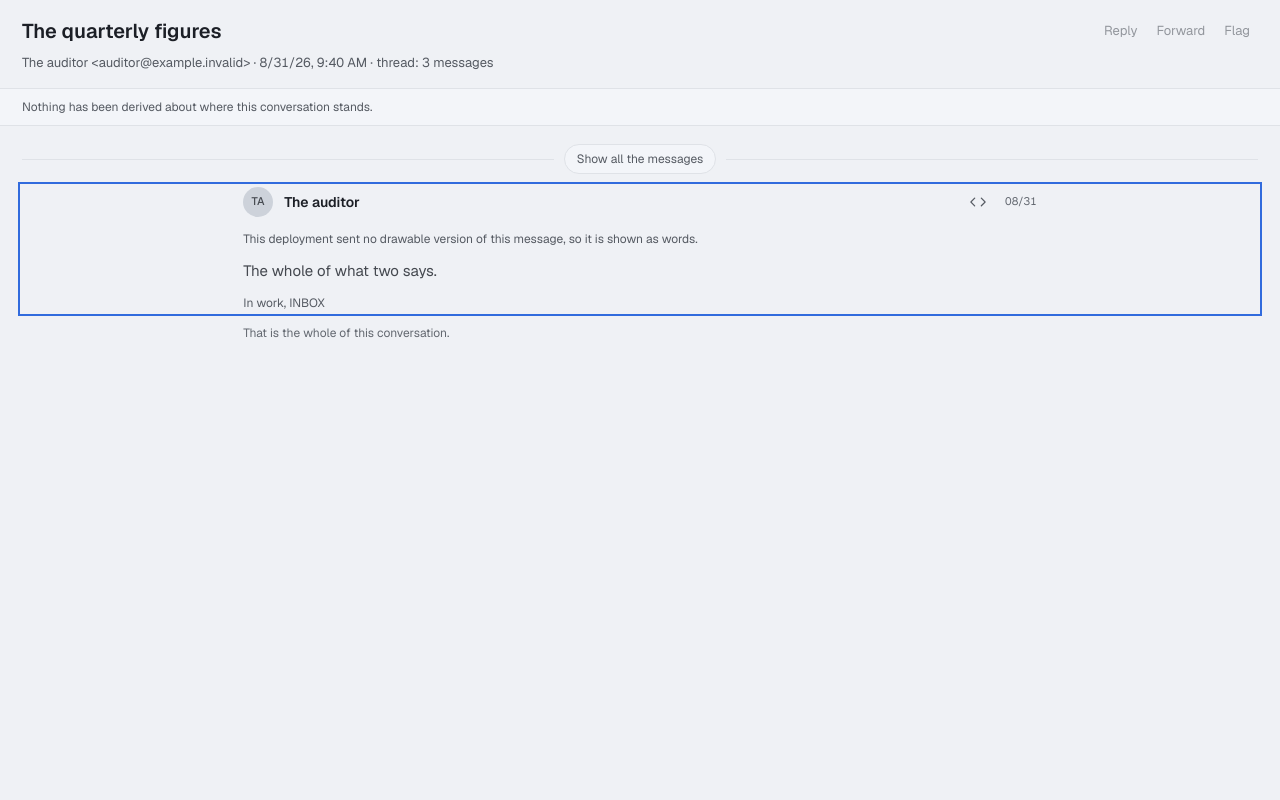
Test: Thread › marks the message it was opened at, and marks no other one on the screen
Check: the text "The whole of what two says." is shown, box left=243, top=261, right=437, bottom=280
Click the button "Show all the messages" at (640, 159), box left=564, top=144, right=716, bottom=174
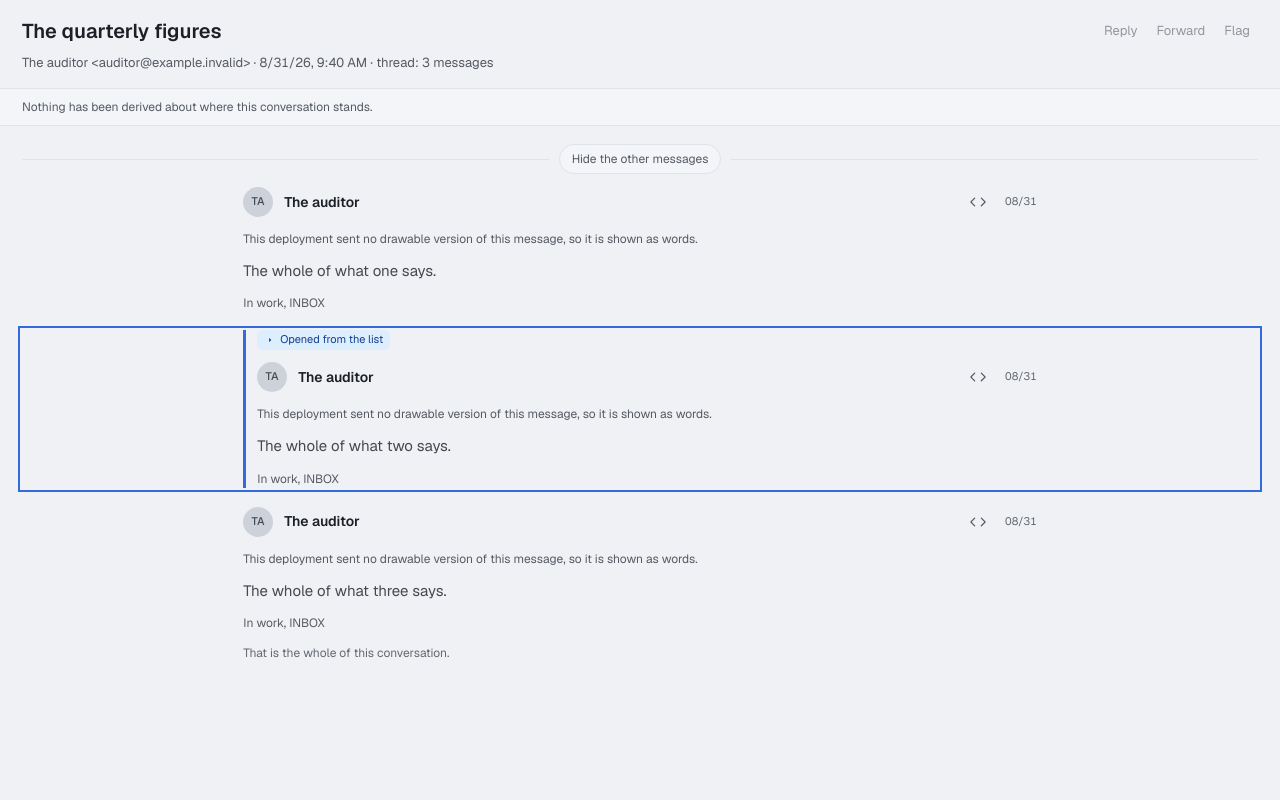
Check: the list item "Opened from the list" shows "The whole of what two says.", box left=257, top=436, right=451, bottom=455
Check: the text "Opened from the list" is shown once, box left=257, top=330, right=390, bottom=350
